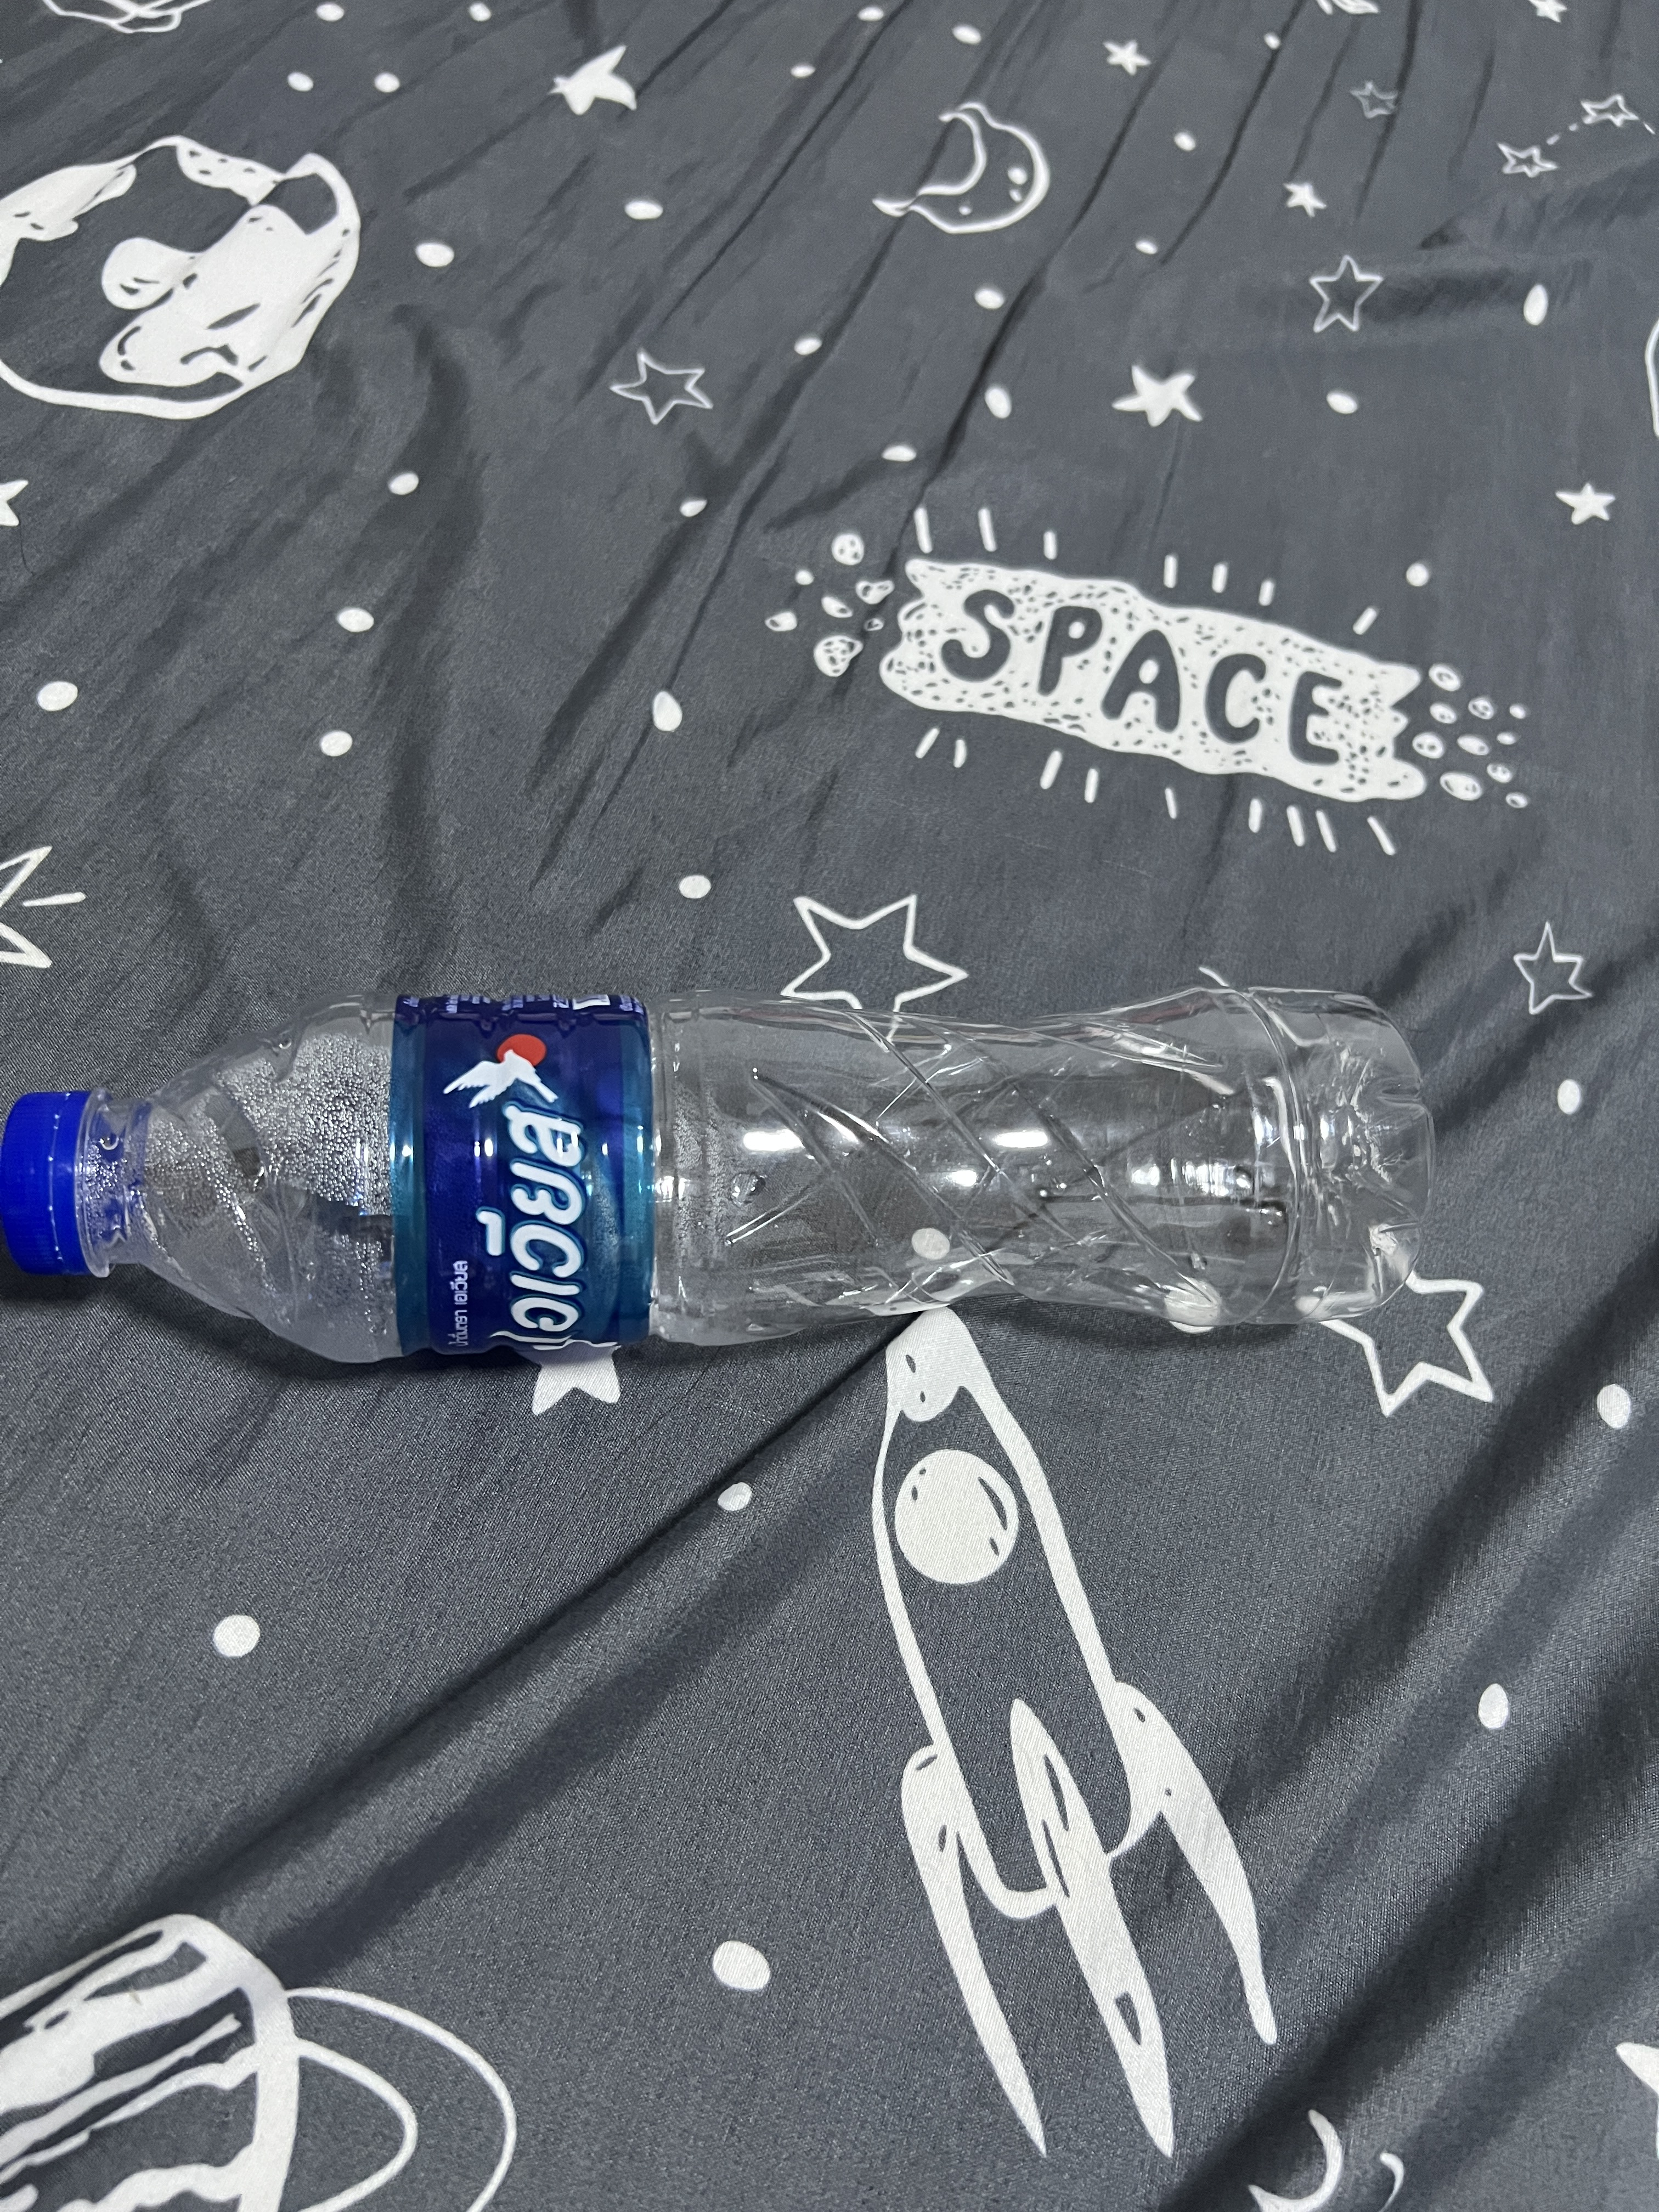plastic_bottle: (14, 941, 1480, 1397)
